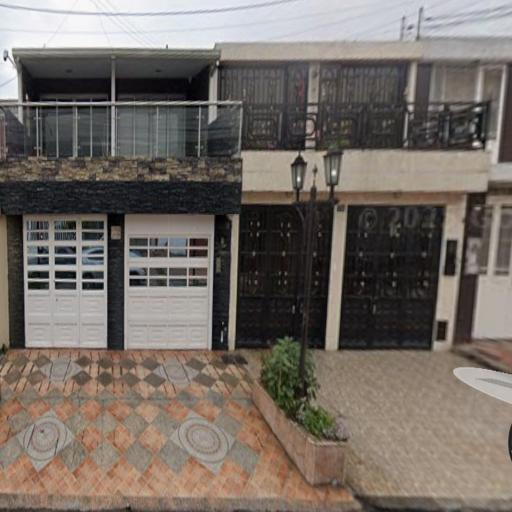fachada: (217, 31, 490, 356), (2, 38, 236, 358)
